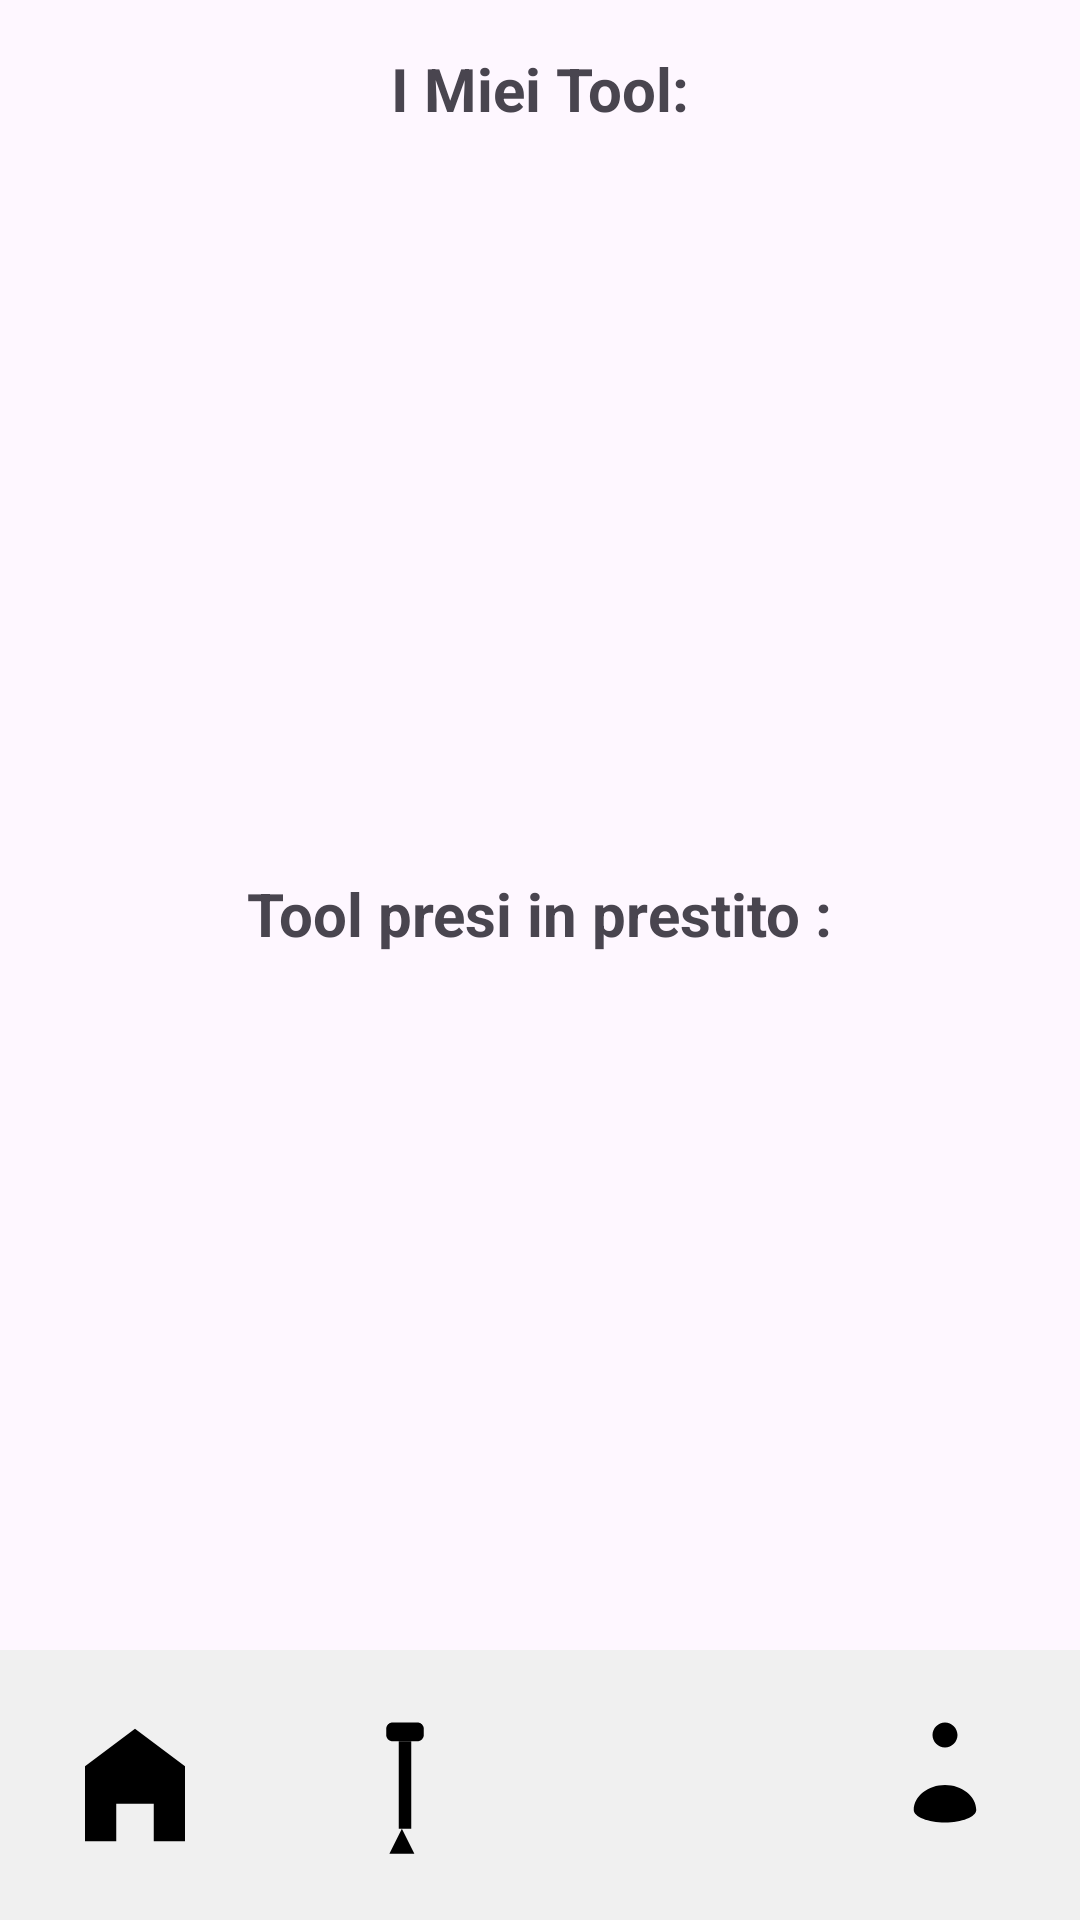

Icon click points for this 1080×1920 phone screenshot, format point (x, y):
Home: point (135, 1785)
Profilo: point (945, 1772)
tool: point (405, 1788)
